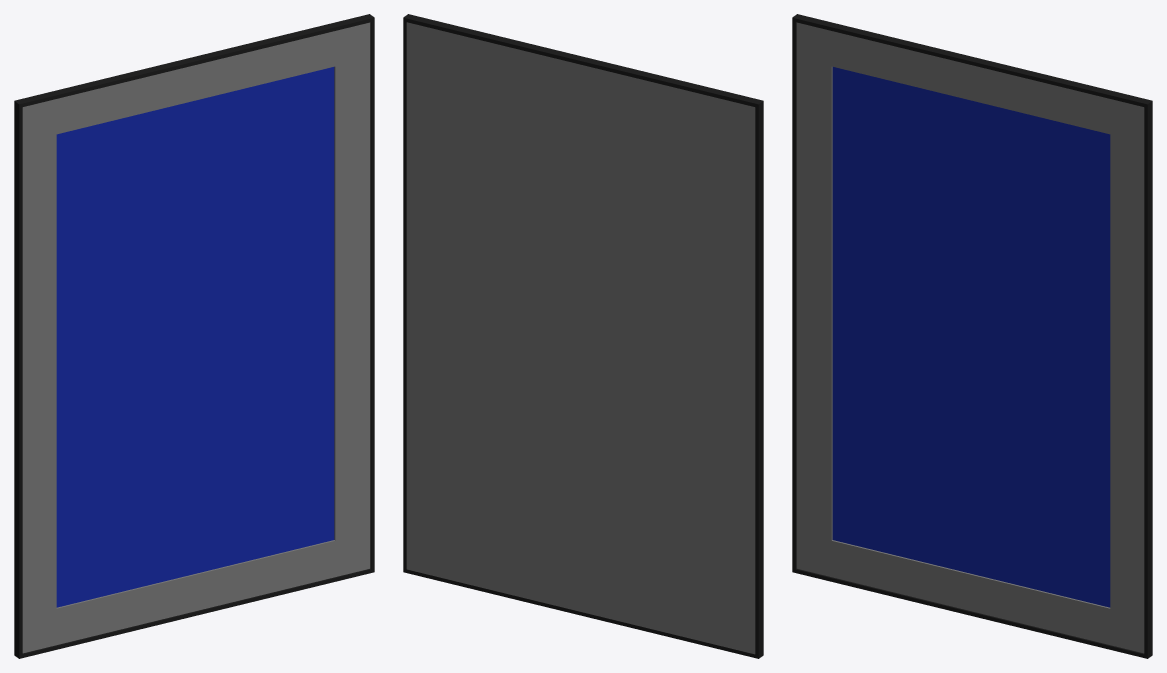
The model's file is Painting_1x1_5.fbx.
The picture shows the model from 3 angles, left to right: view 1: azimuth 30°, elevation 25°; view 2: azimuth 150°, elevation 25°; view 3: azimuth 330°, elevation 25°; orthographic projection.
Parts seen in each view (by area): view 1: Painting_1x1_5; view 2: Painting_1x1_5; view 3: Painting_1x1_5.
Boxes of the visible parts, box(x1,y1,x2,y2) form: Painting_1x1_5: box(14, 14, 374, 658); Painting_1x1_5: box(403, 14, 763, 658); Painting_1x1_5: box(792, 14, 1152, 658).
Bounding box in the file's own units: 102 × 152 × 2.5.
